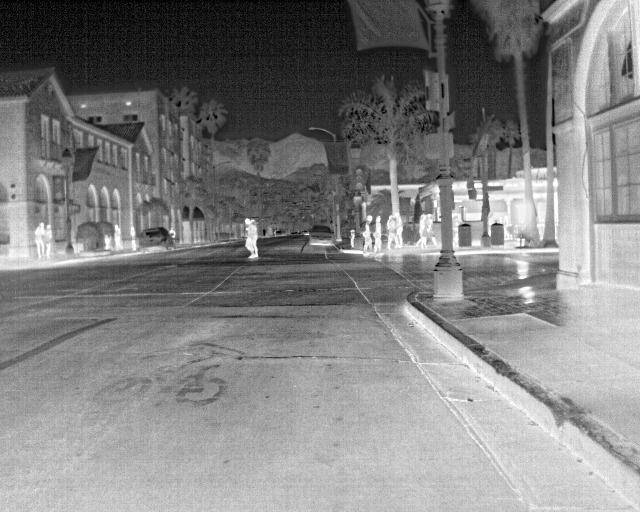bicycle: (139, 226, 176, 253), (308, 223, 336, 246)
empty: (410, 212, 427, 250), (425, 211, 441, 249), (243, 217, 257, 260), (386, 213, 400, 249), (371, 214, 384, 250), (43, 221, 55, 257), (33, 221, 45, 257), (361, 213, 373, 249), (111, 222, 124, 253), (128, 224, 140, 250)
